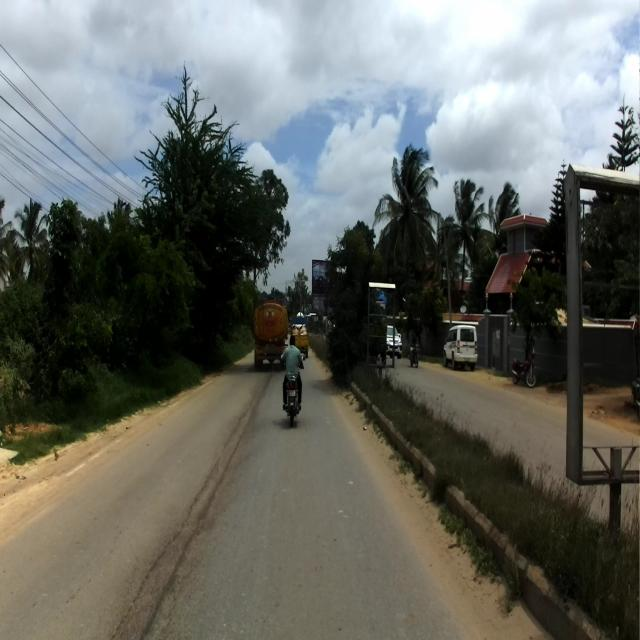motorcycle: (279, 354, 304, 427)
